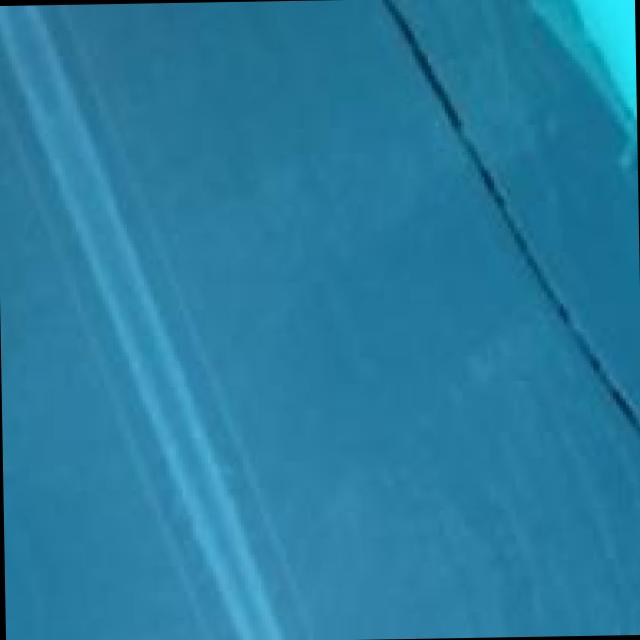crack: (337, 0, 640, 447)
